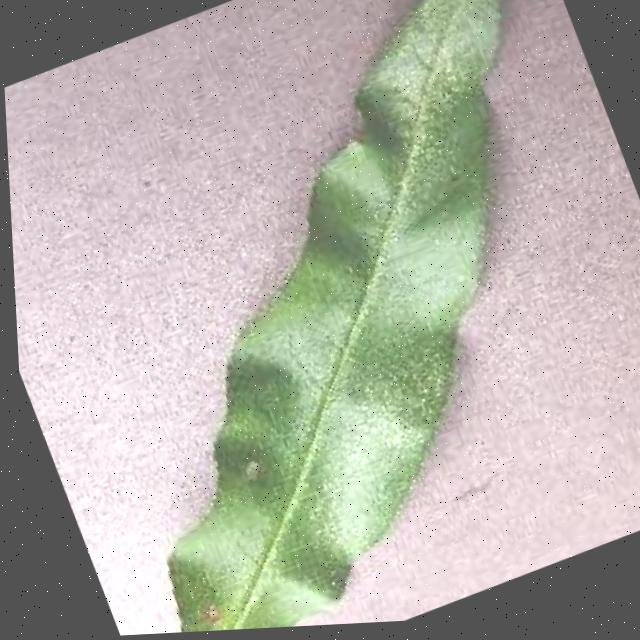Bacterial_spot: (193, 579, 248, 632)
